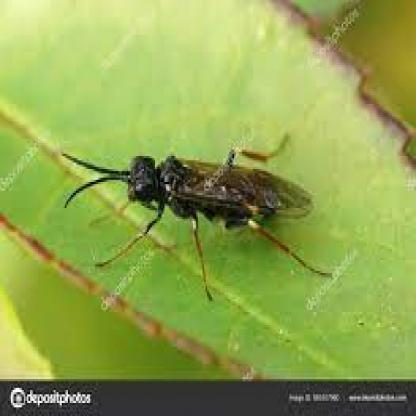sawfly: (58, 131, 340, 293)
